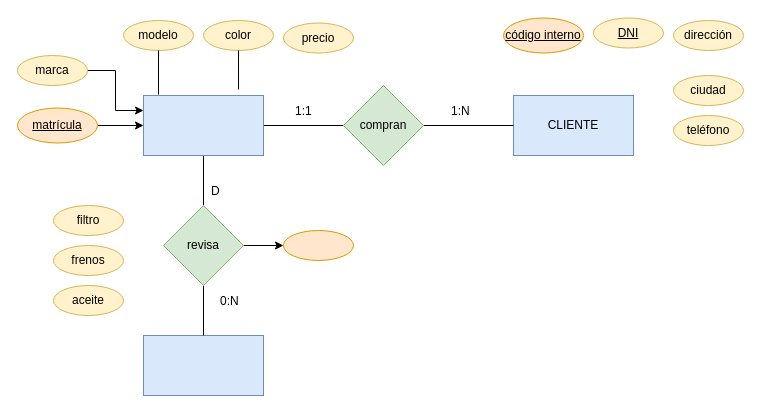
This 761x413 diagram has some shape labels left out. The centre of each missing label's shape, as x and y in pixels:
"COCHE" belongs at point (203, 125).
"CONCECIONARIO" belongs at point (203, 365).
"código" belongs at point (318, 245).
